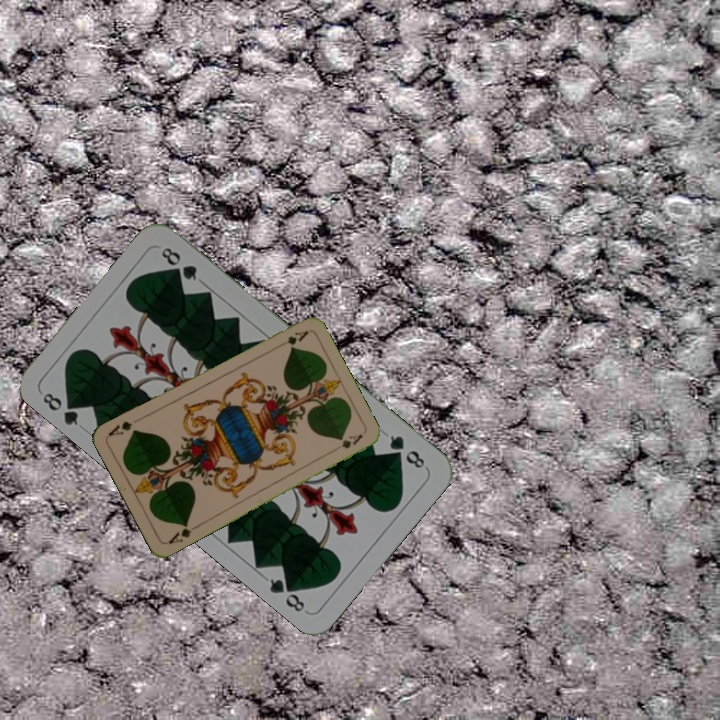G8: (38, 388, 84, 428), (385, 431, 428, 472)
GA: (164, 519, 201, 547), (272, 327, 311, 351)
